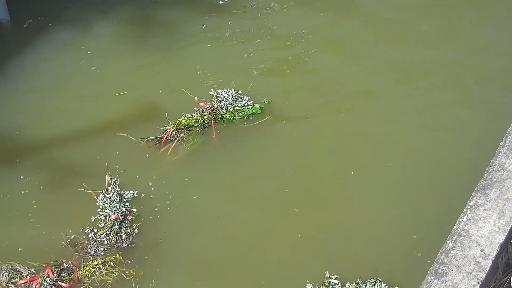twig: (140, 72, 264, 161), (77, 173, 157, 254), (0, 249, 162, 288), (299, 260, 410, 288)
